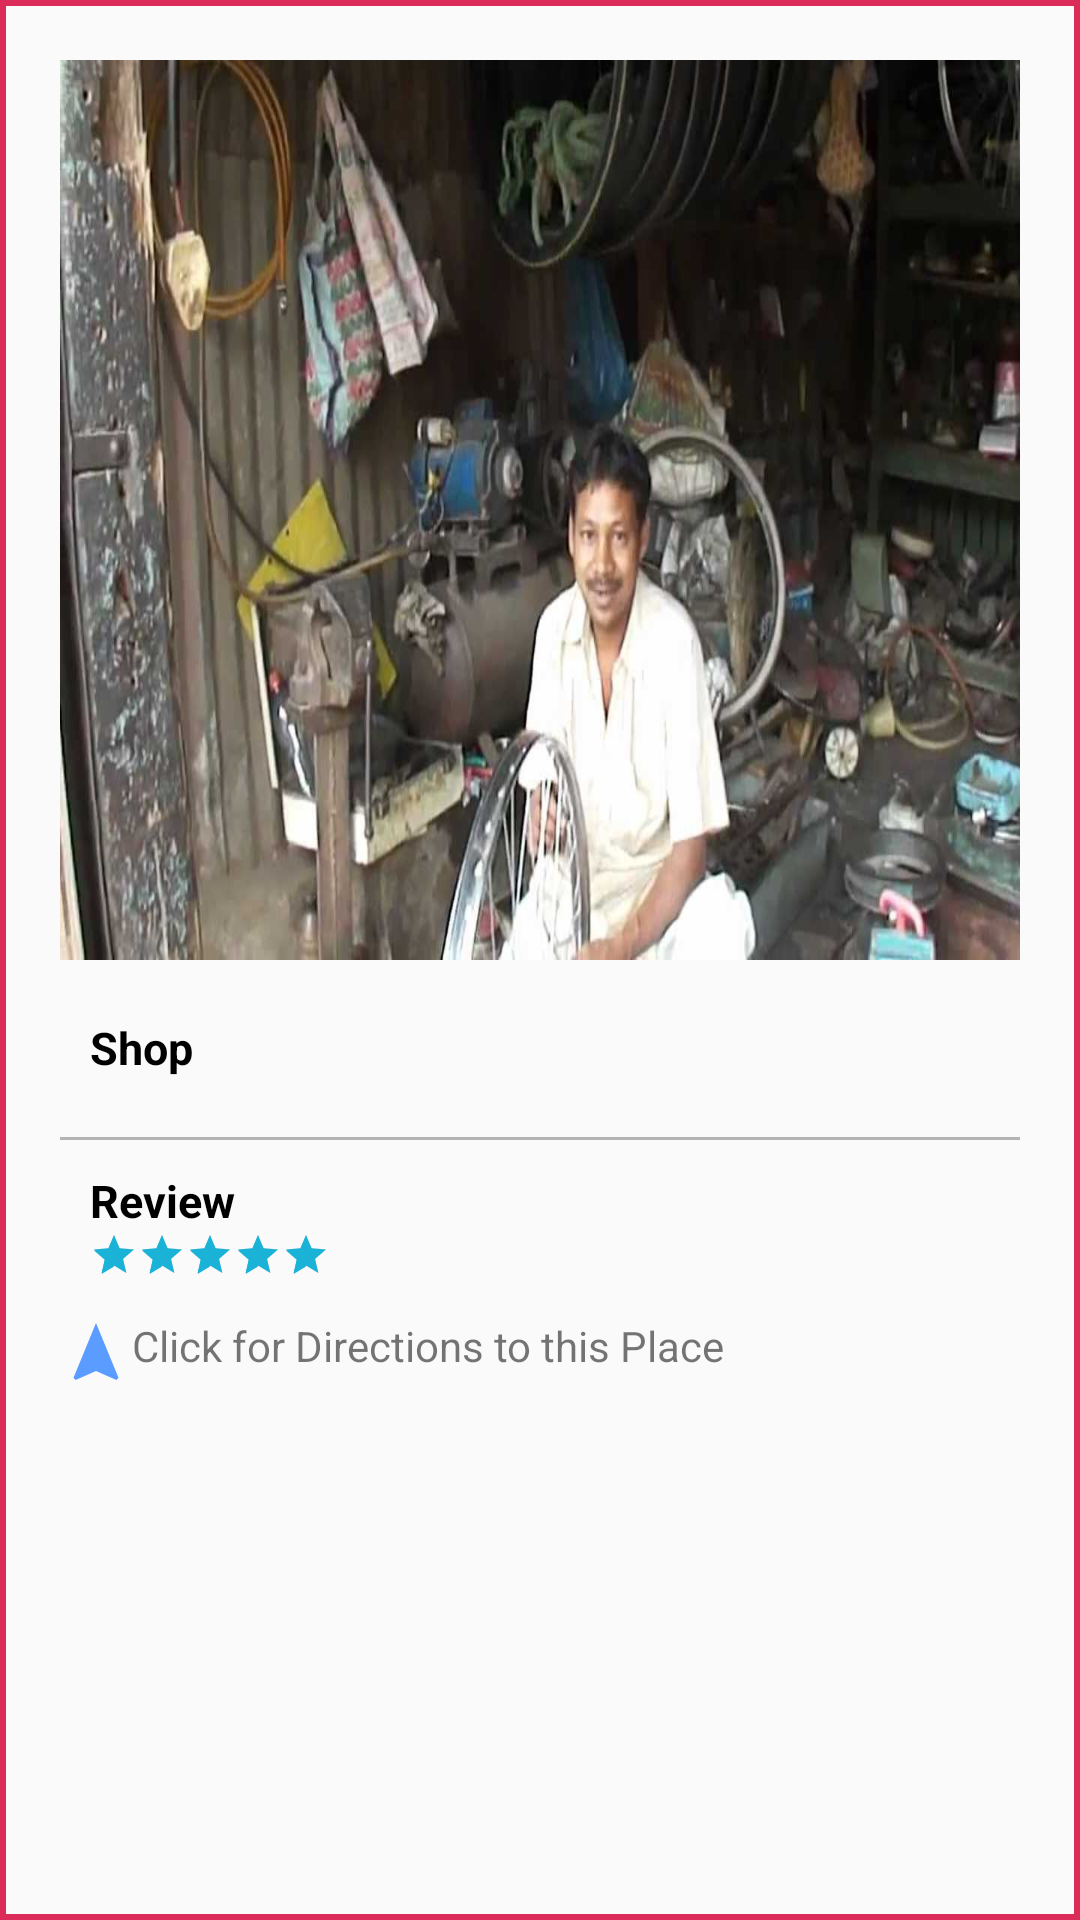

Screen size 1080×1920. Icon name, then its box in pixels as (x1, y1, x2, y2):
navigation: (73, 1323, 119, 1380)
